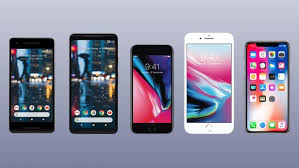phone: (66, 31, 121, 136), (183, 31, 237, 136), (8, 35, 57, 136), (244, 39, 290, 133), (130, 42, 175, 136)
